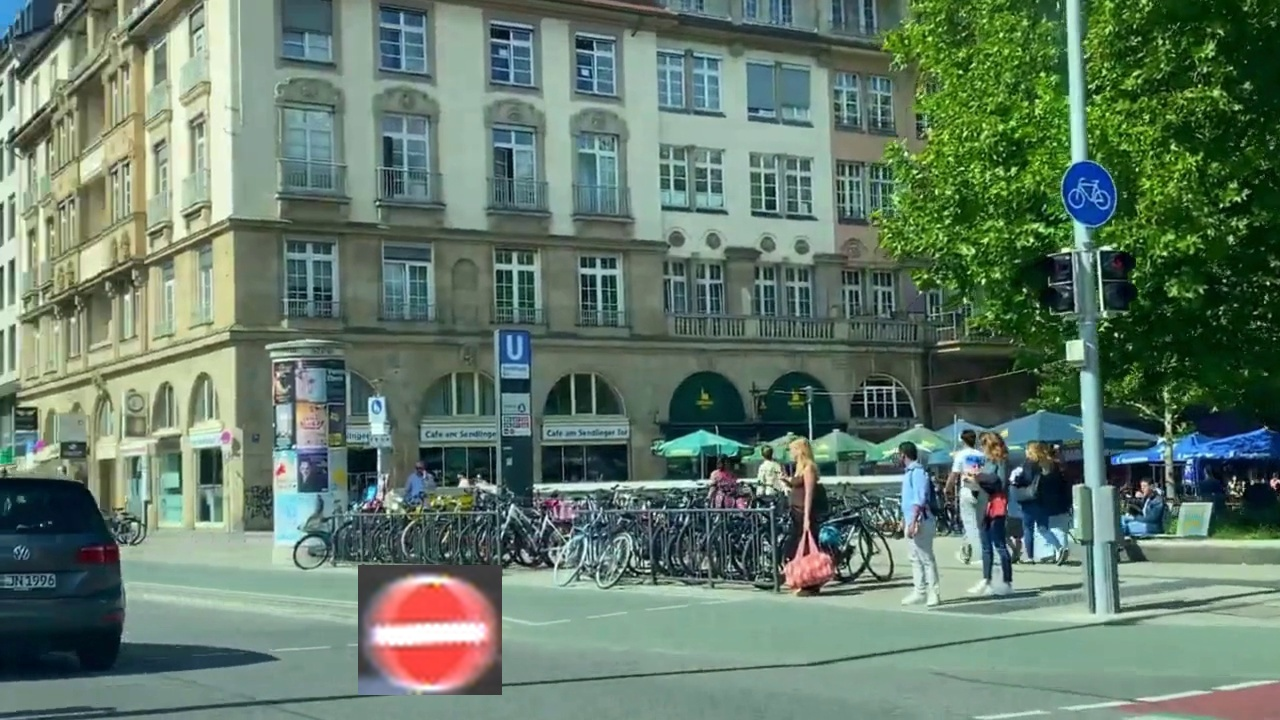No entry: (358, 565, 502, 695)
